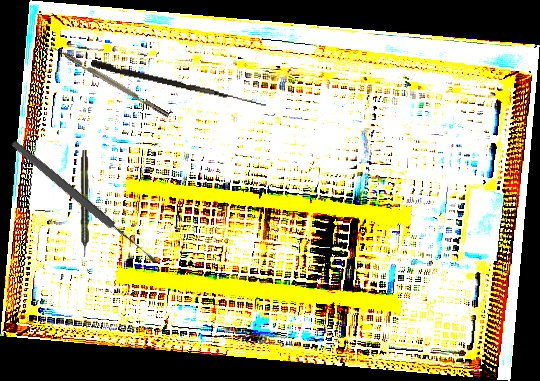Chopper: (45, 41, 170, 124)
Handpiece: (80, 150, 89, 257)
Hook Surgical: (89, 59, 269, 107)
Surgical Spoon: (8, 137, 160, 268)
